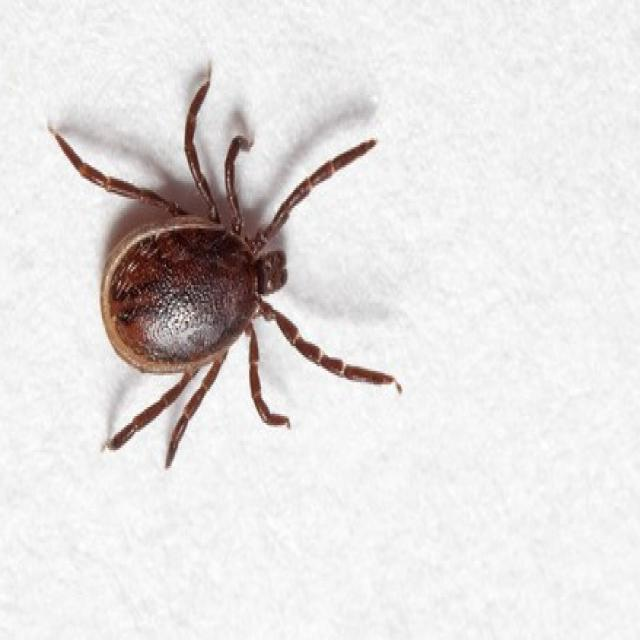Ixodes Ricinus-M: (47, 57, 399, 470)
